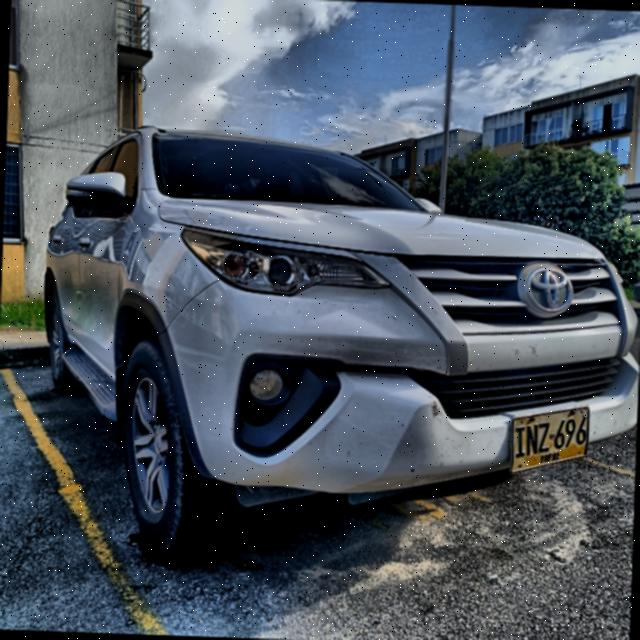plate: (512, 407, 588, 473)
